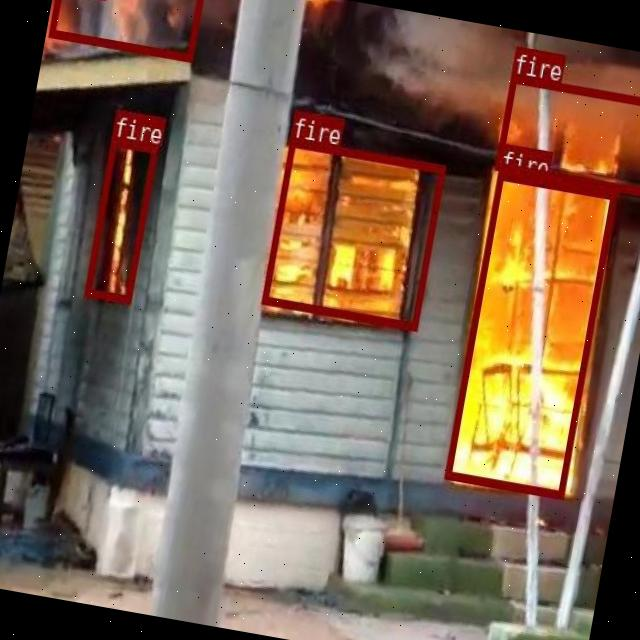fire: (444, 169, 616, 496), (261, 137, 444, 329), (494, 72, 640, 196), (83, 136, 157, 302), (47, 0, 203, 60)
